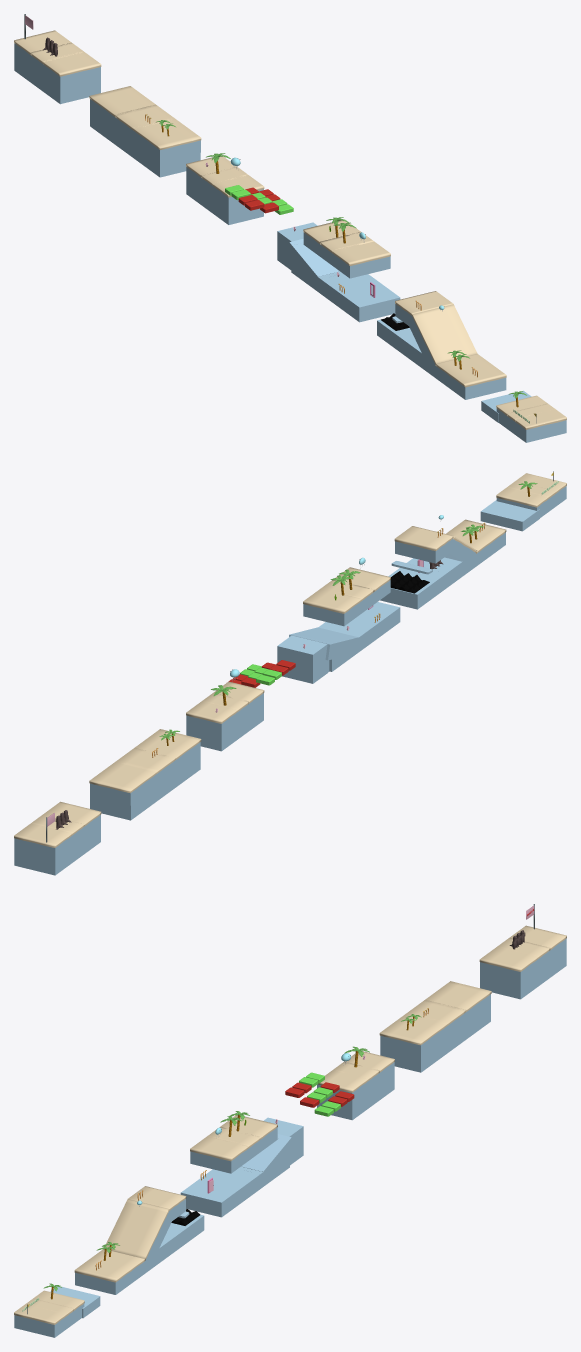
File: SEA1032.fbx
3 views of the same model, one above another, from view 1: azimuth 30°, elevation 25°; view 2: azimuth 150°, elevation 25°; view 3: azimuth 330°, elevation 25° (orthographic).
Parts seen in each view (by area): view 1: Road.004, Road.003, Road.005, Road.011, Road.006, Road.002, Road; view 2: Road.003, Road.004, Road.005, Road.011, Road.006, Road.002, Road, trap; view 3: Road.004, Road.003, Road.005, Road.011, Road.002, Road.006, Road.
Boxes of the visible parts, <box> form: Road.004: <box>377,291,506,399</box>; Road.003: <box>89,86,201,177</box>; Road.005: <box>277,222,400,322</box>; Road.011: <box>14,30,101,104</box>; Road.006: <box>186,156,264,224</box>; Road.002: <box>303,220,390,278</box>; Road: <box>481,390,566,442</box>; Road.003: <box>89,729,201,820</box>; Road.004: <box>380,519,506,609</box>; Road.005: <box>277,602,400,683</box>; Road.011: <box>14,801,101,875</box>; Road.006: <box>186,681,264,751</box>; Road.002: <box>303,567,390,626</box>; Road: <box>480,473,566,531</box>; trap: <box>390,571,429,593</box>; Road.004: <box>74,1186,204,1294</box>; Road.003: <box>379,981,491,1072</box>; Road.005: <box>180,1117,303,1217</box>; Road.011: <box>479,925,566,999</box>; Road.002: <box>190,1115,277,1173</box>; Road.006: <box>317,1051,394,1120</box>; Road: <box>14,1286,100,1337</box>.
Size of the model in its own units: 2451 by 1553 by 31168.
